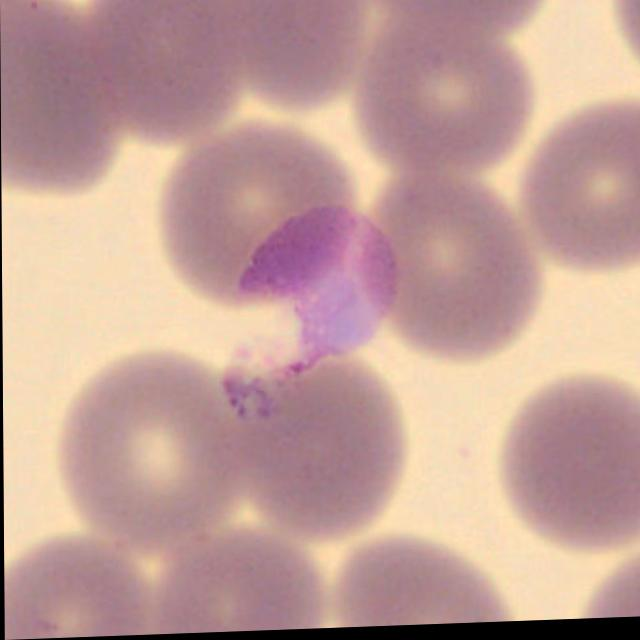Artefato: (231, 206, 398, 382)
